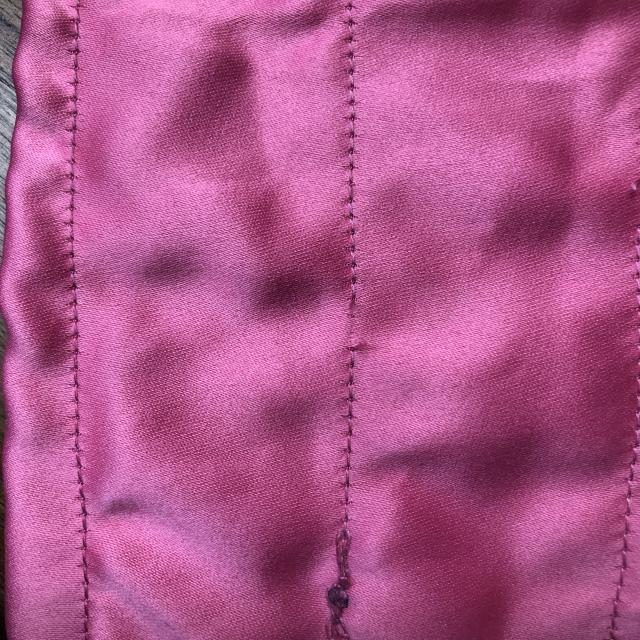broken: (322, 280, 390, 366)
